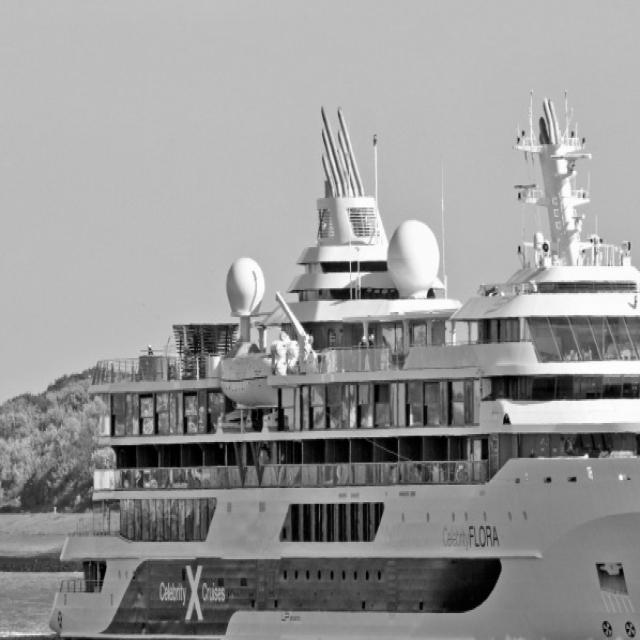cruises: (48, 67, 640, 640)
